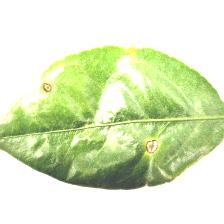canker: (41, 79, 166, 156)
